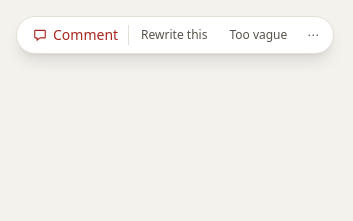
Test case: CommentForm selection pill › template tap expands prefilled with the grid hidden and locks the selection
This screenshot has width=353, height=221.
Step 1. Click the button "Rewrite this" → [174, 35], box [131,23,217,47]
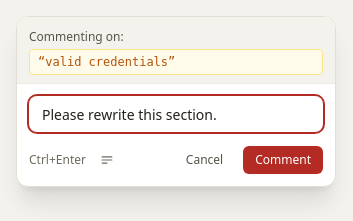
Check: the text box with placeholder "Add your comment..." holds "Please rewrite this section.", box [29,96,323,132]
